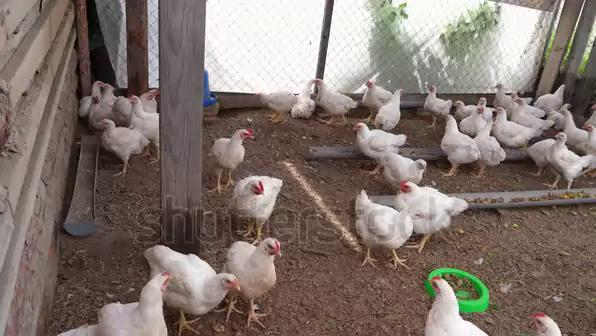Pollos: (91, 272, 171, 334), (171, 252, 240, 312), (424, 271, 481, 336), (351, 190, 413, 242), (401, 181, 464, 218), (95, 119, 148, 160), (240, 174, 285, 216), (241, 235, 281, 282), (441, 114, 479, 163), (210, 124, 255, 165), (317, 75, 355, 119), (552, 133, 588, 178), (355, 121, 405, 153), (380, 150, 424, 185), (473, 119, 507, 163), (494, 107, 533, 141), (87, 81, 120, 118), (131, 95, 161, 135), (296, 73, 321, 119), (515, 99, 549, 132), (379, 88, 408, 122), (536, 82, 567, 108), (257, 88, 295, 109), (556, 108, 585, 133), (425, 84, 450, 111), (363, 80, 383, 111), (490, 82, 513, 104), (453, 99, 475, 115)
